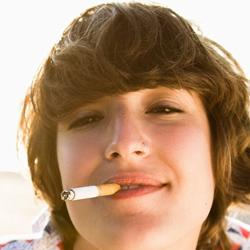smoking: (57, 171, 172, 203)
